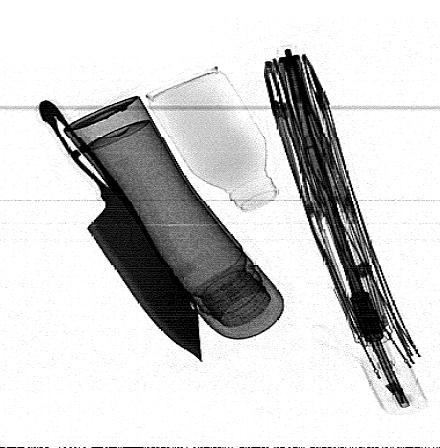Knife: (34, 99, 202, 362)
